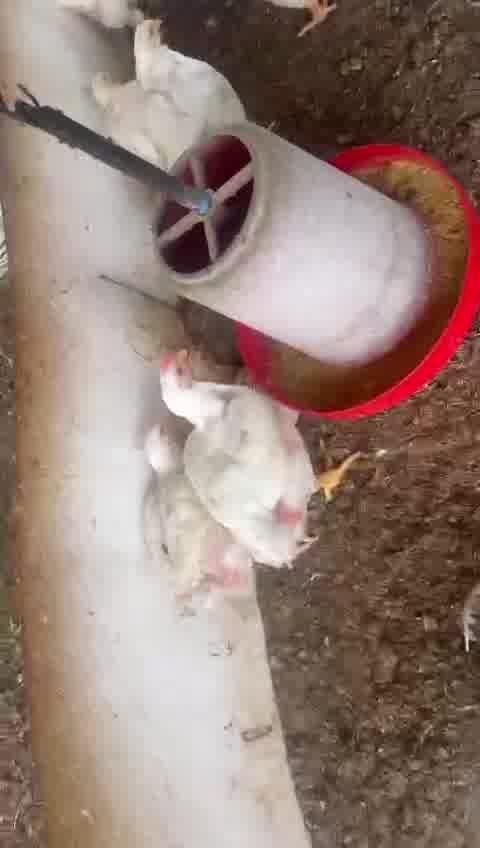Normal: (157, 347, 345, 556), (144, 437, 275, 609), (132, 19, 248, 125), (84, 72, 206, 144)
